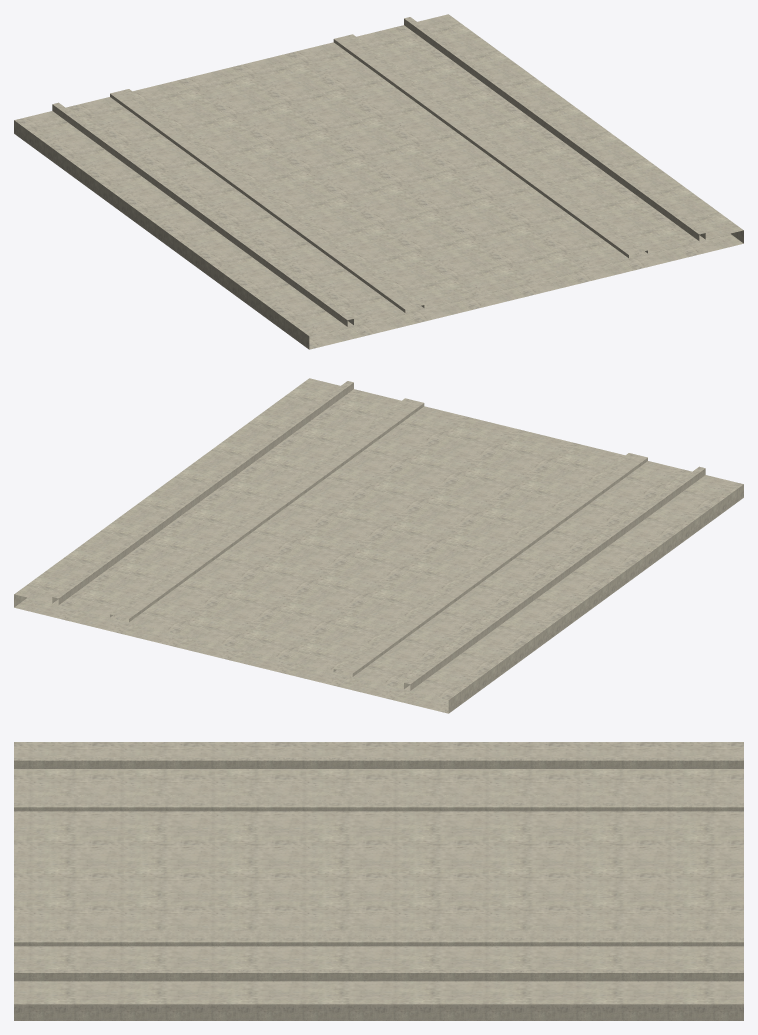
Rendered from SuspBridgeBase-2L-40M.FBX.
3 renders of one model, top to bottom at view 1: azimuth 30°, elevation 25°; view 2: azimuth 150°, elevation 25°; view 3: azimuth 270°, elevation 25°, orthographic. The views are drawn at different scales.
Visible parts, largest first — view 1: SuspBridgeBase-2L-40M; view 2: SuspBridgeBase-2L-40M; view 3: SuspBridgeBase-2L-40M.
Boxes of the visible parts, x1,y1,x2,y2 form: SuspBridgeBase-2L-40M: (14, 14, 743, 349); SuspBridgeBase-2L-40M: (14, 378, 743, 713); SuspBridgeBase-2L-40M: (14, 742, 743, 1020).
Bounding box in the file's own units: 34 × 1.5 × 40.
